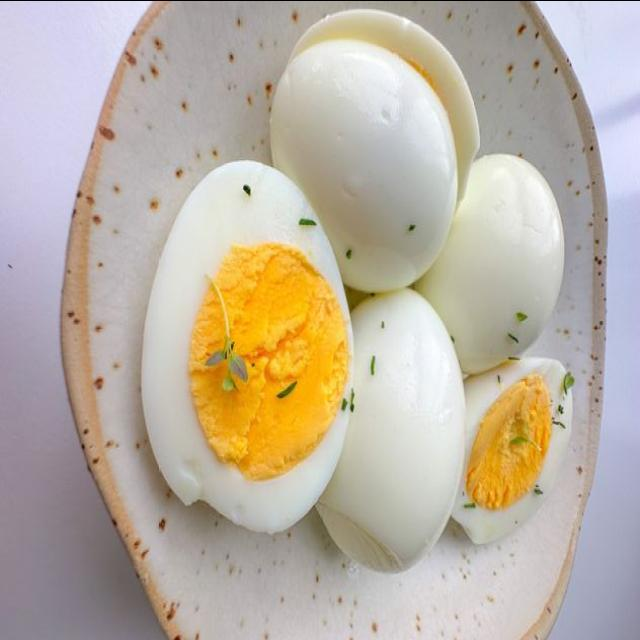telur rebus: (139, 158, 353, 532)
